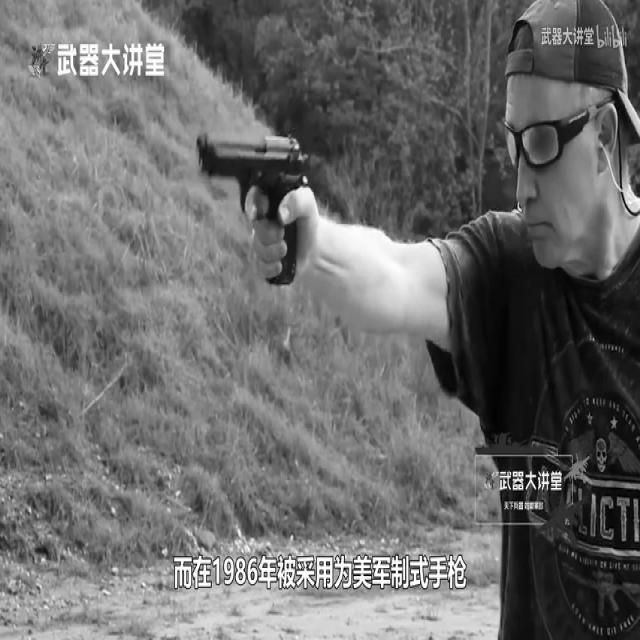Hand-Gun: (189, 43, 392, 417)
